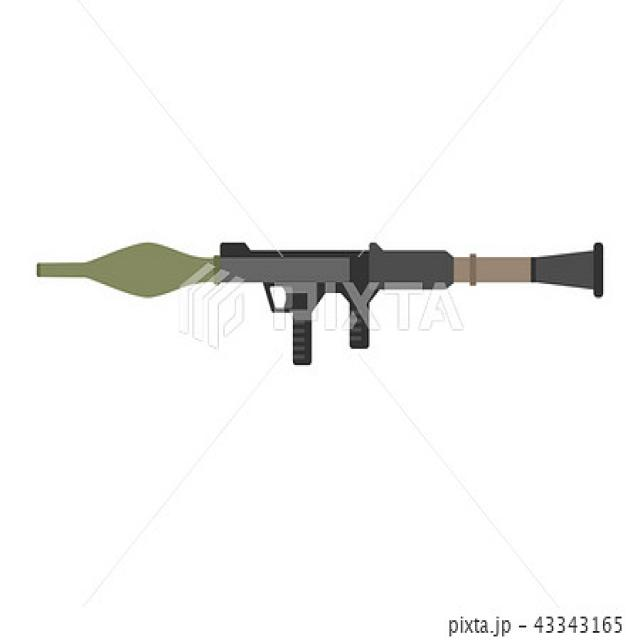bazooka: (30, 201, 602, 386)
